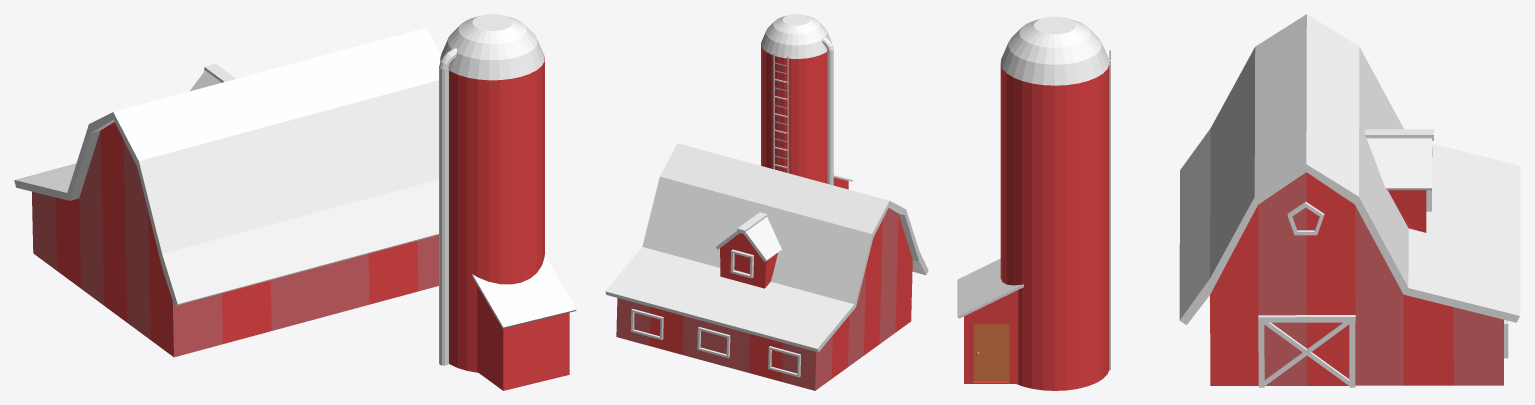
The model's file is Home_farm.glb.
3 renders of one model, left to right at view 1: azimuth 30°, elevation 25°; view 2: azimuth 150°, elevation 25°; view 3: azimuth 270°, elevation 25°, orthographic. The views are drawn at different scales.
Parts seen in each view (by area): view 1: Object_28; view 2: Object_28; view 3: Object_28.
Boxes of the visible parts, bbox=[...] form: Object_28: bbox=[14, 14, 576, 390]; Object_28: bbox=[605, 14, 928, 390]; Object_28: bbox=[957, 14, 1520, 390].
Bounding box in the file's own units: 97.61 × 97.21 × 144.
